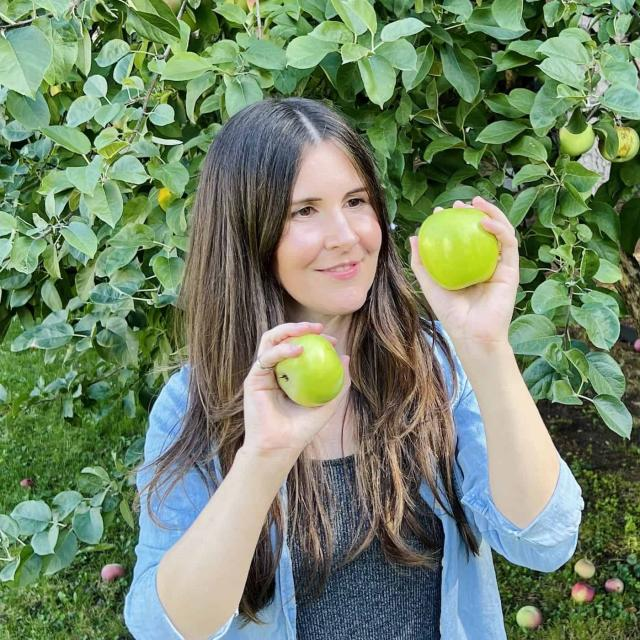Green Apple: (417, 196, 518, 293), (275, 346, 360, 418)
Red Apple: (541, 1, 640, 37)
